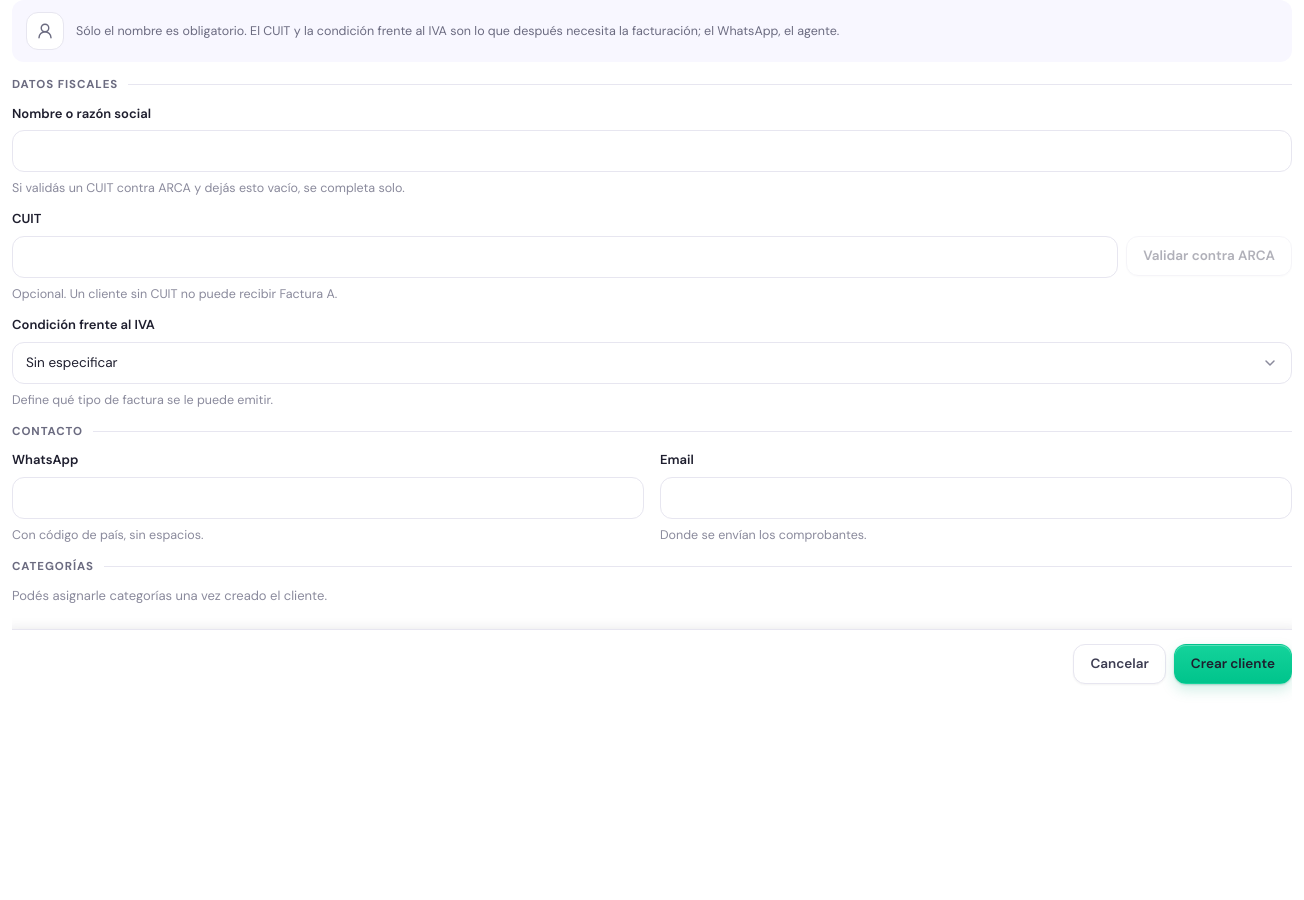
it: FormularioDeCliente › no encontrado avisa que hay que revisarlo
Type "30712345671" into the field labelled "CUIT" at coordinates (565, 257), box [12,236,1118,278]
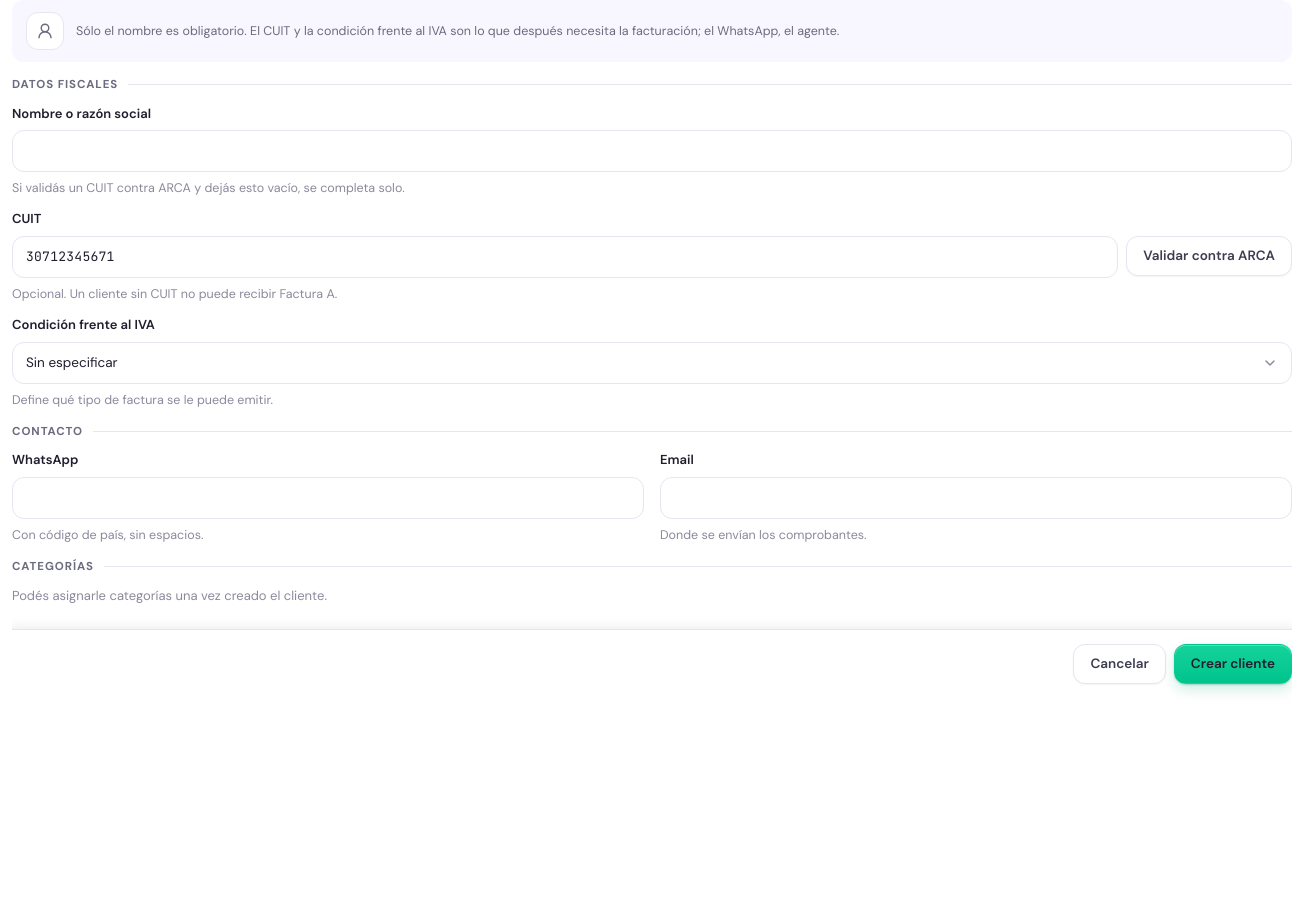
Click the button "Validar contra ARCA" at coordinates (1209, 256), box [1126,236,1292,276]
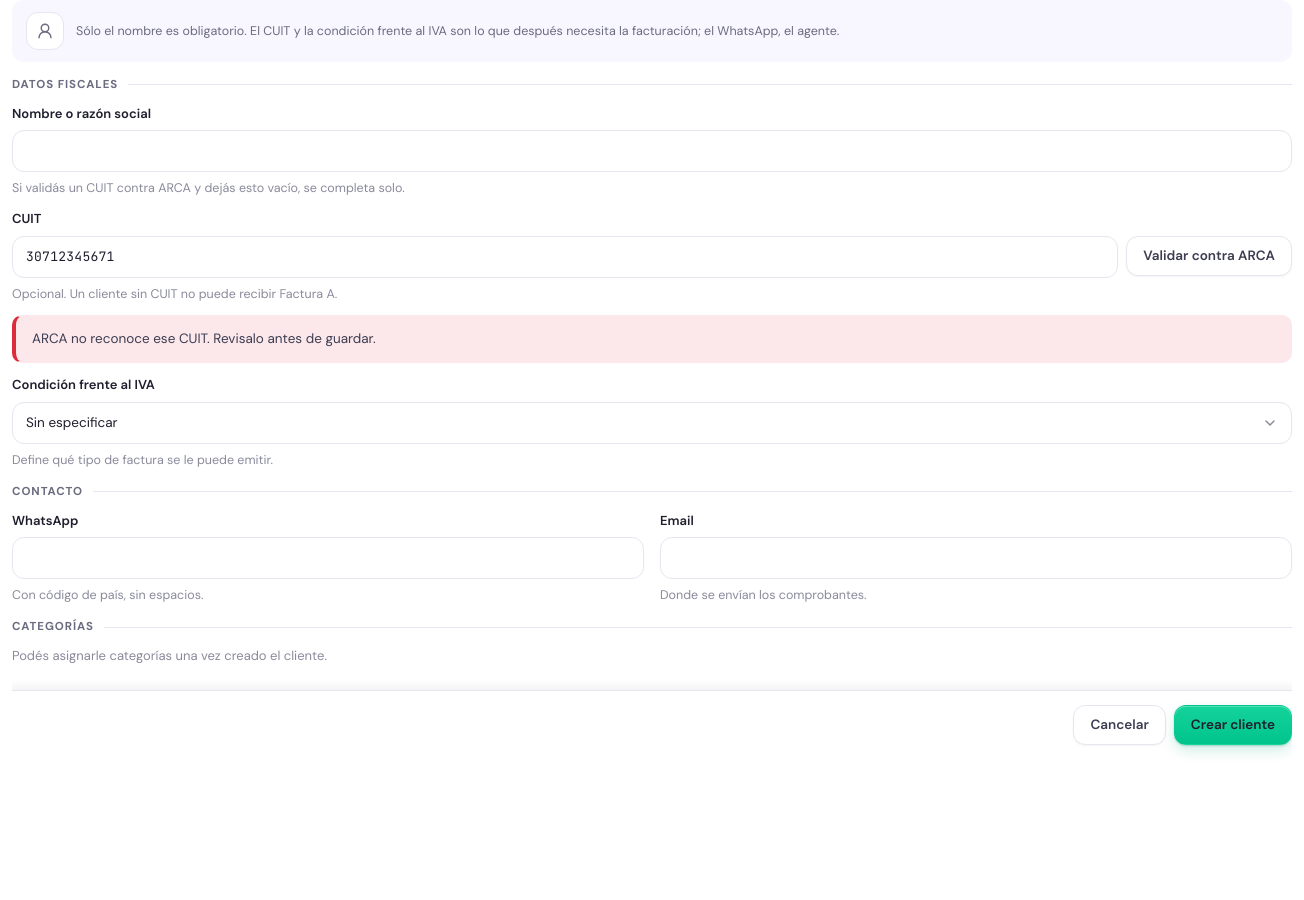
Now the text "ARCA no reconoce ese CUIT. Revisalo antes de guardar." is shown, box [12,315,1292,363]
